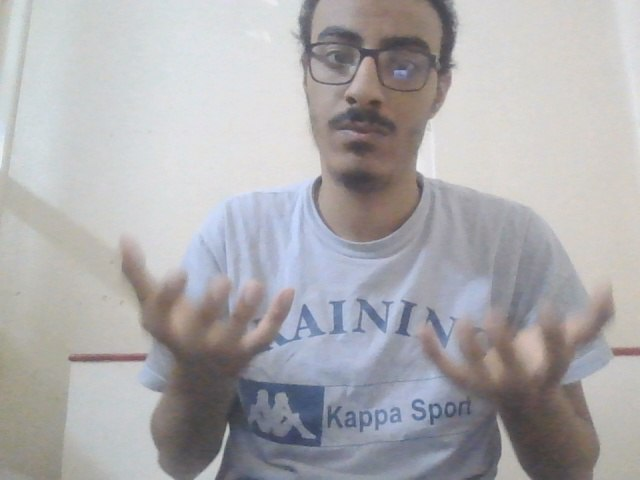What: (110, 233, 619, 412)
